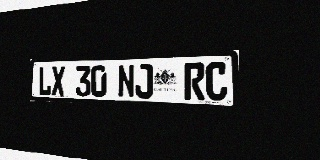0: (91, 65, 106, 97)
3: (76, 65, 90, 97)
C: (206, 62, 227, 101)
J: (135, 64, 153, 99)
L: (38, 66, 51, 96)
N: (118, 64, 135, 98)
R: (184, 62, 205, 100)
X: (52, 66, 65, 96)
